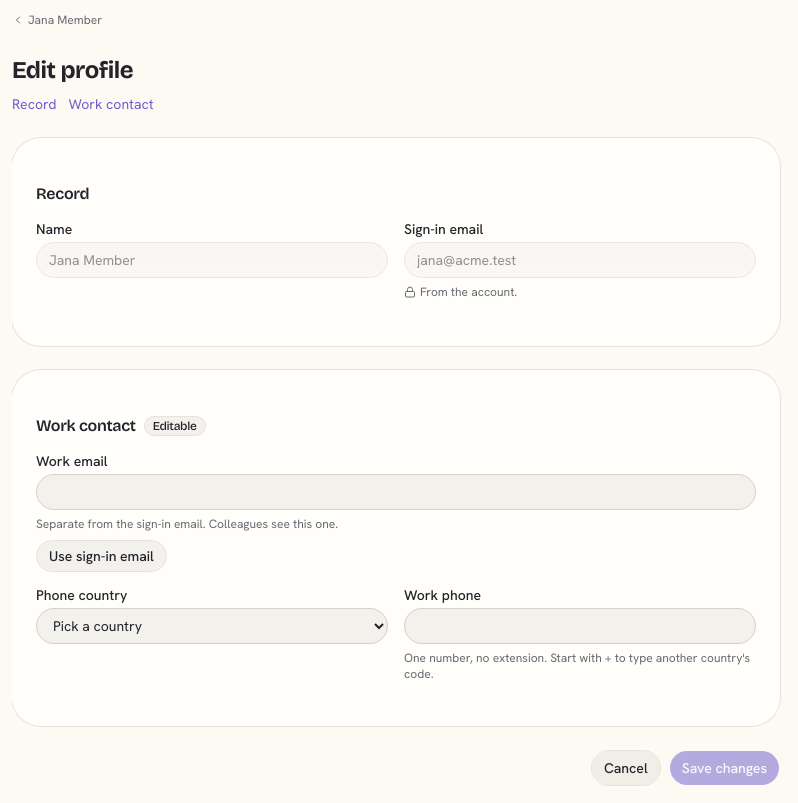
Test: ProfileEditScreen › Work contact › fills the work email from the sign-in email in one click
Click the button "Use sign-in email".
click(101, 556)  # box [36,540,167,572]
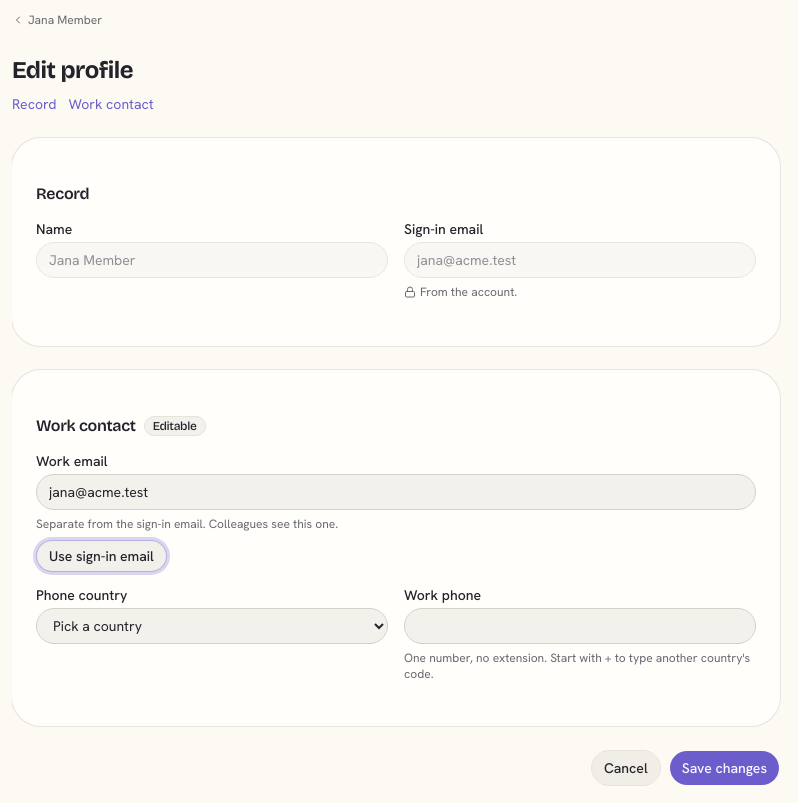
Expected: the field labelled "Work email" holds "jana@acme.test", [36,474,756,510]
